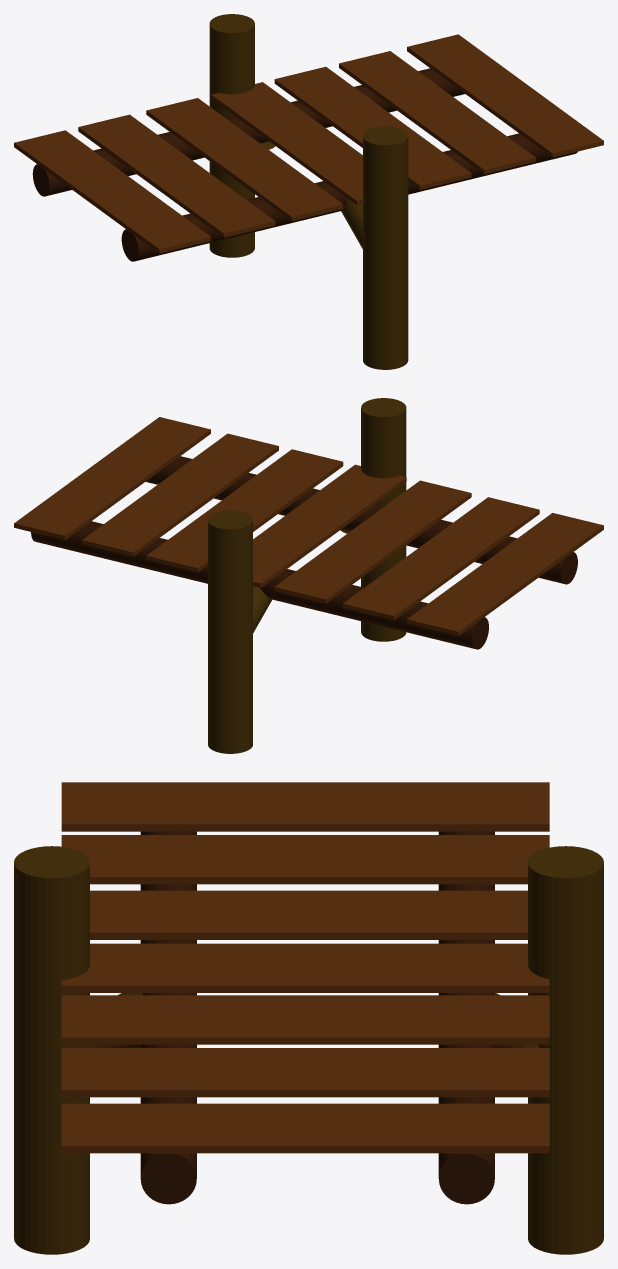
Rendered from Steg_Brucke.fbx.
3 renders of one model, top to bottom at view 1: azimuth 30°, elevation 25°; view 2: azimuth 150°, elevation 25°; view 3: azimuth 270°, elevation 25°, orthographic. The views are drawn at different scales.
Parts seen in each view (by area): view 1: Bretter, StegHafter.001, UnterePlanke; view 2: Bretter, StegHafter.001, UnterePlanke; view 3: Bretter, StegHafter.001, UnterePlanke.
Boxes of the visible parts, x1,y1,x2,y2 form: Bretter: [14, 34, 603, 253]; StegHafter.001: [209, 14, 408, 369]; UnterePlanke: [32, 68, 577, 261]; Bretter: [14, 417, 603, 635]; StegHafter.001: [208, 398, 406, 753]; UnterePlanke: [31, 456, 577, 649]; Bretter: [61, 782, 549, 1153]; StegHafter.001: [14, 846, 603, 1254]; UnterePlanke: [140, 831, 494, 1204].
Size of the model in its own units: 788 by 380 by 540.
